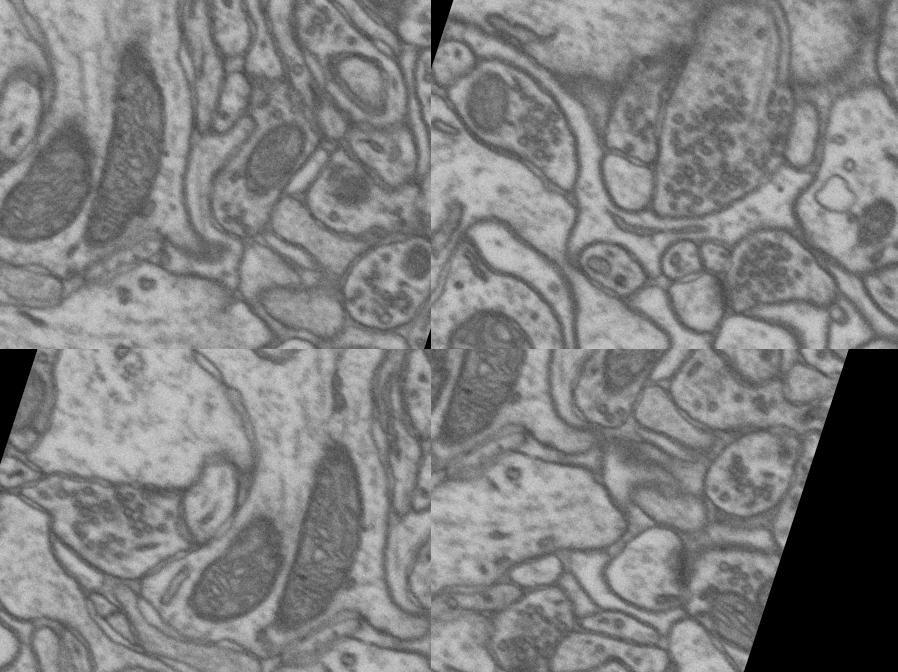mitochondria: (51, 29, 200, 265), (256, 427, 393, 649), (0, 100, 116, 266), (176, 494, 302, 644), (431, 349, 558, 463), (235, 110, 316, 204), (431, 289, 553, 349), (785, 0, 898, 60), (445, 52, 522, 140), (693, 578, 768, 656), (589, 349, 675, 410), (840, 170, 898, 247), (431, 349, 467, 458), (10, 360, 59, 439), (738, 566, 776, 637), (325, 0, 413, 17), (812, 349, 862, 367)
